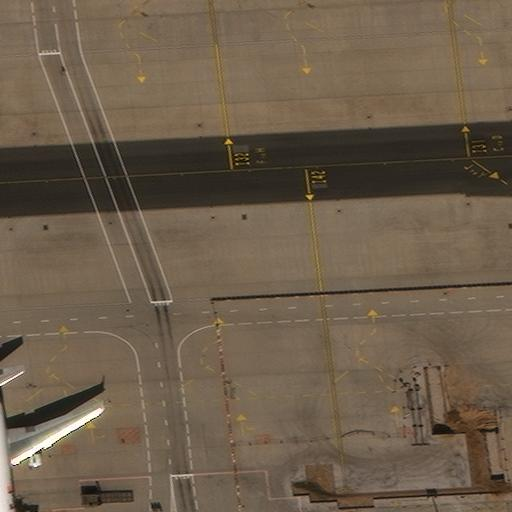Large Civil Transport: (0, 367, 104, 511)
